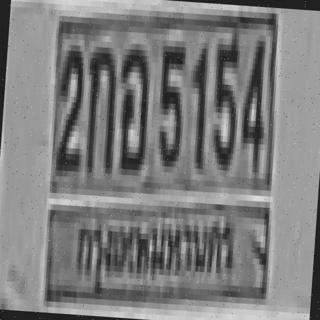A01: (80, 41, 119, 174)
A43: (114, 43, 150, 170)
N01: (185, 42, 209, 163)
N02: (52, 41, 86, 174)
N04: (238, 34, 269, 167)
N05: (207, 32, 241, 165), (153, 42, 186, 164)
P04: (68, 208, 239, 301)
